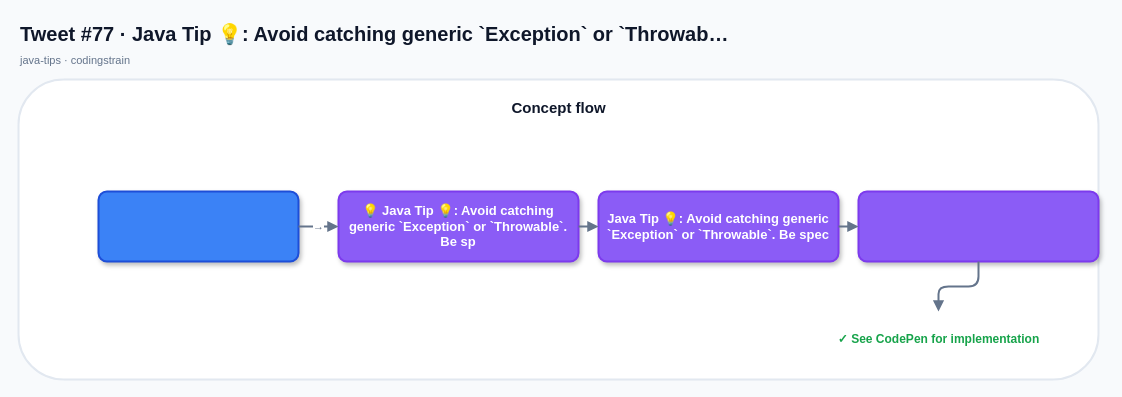
Some shapes in this 1122 by 397 pixel diagram are drawn without their labels. The centre of each missing label's shape, as x and y in pixels:
Problem / context: the point at 199,227
Runnable sample: `java-tips`: the point at 979,227
